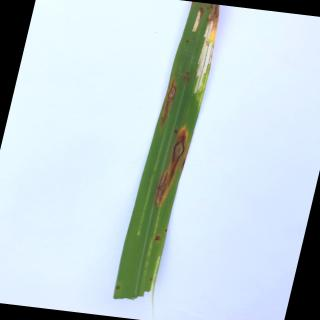Blast: (169, 126, 191, 168), (154, 168, 177, 206), (159, 78, 178, 124), (182, 74, 190, 84), (154, 236, 161, 242)
